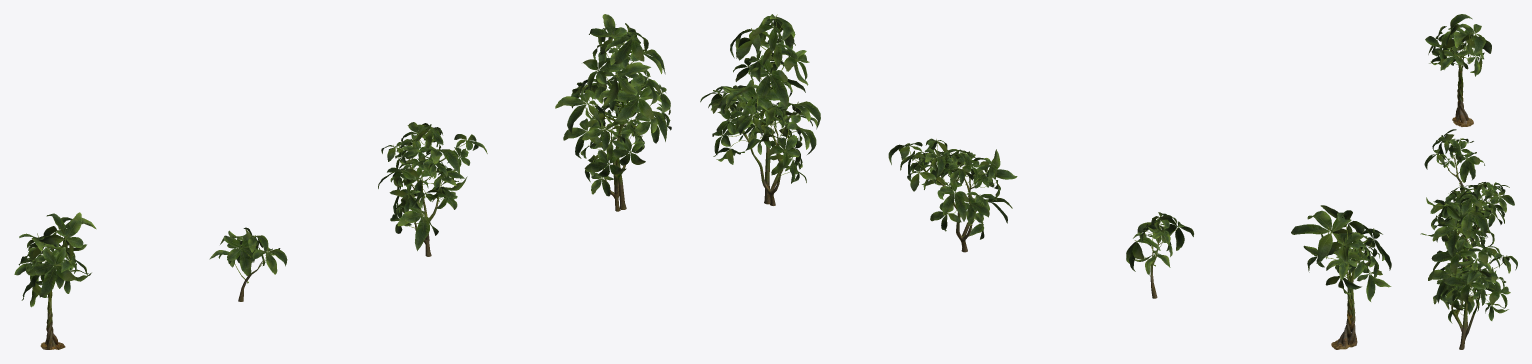
File: pachira_aquatica_01.glb
3 views of the same model, side by side, from view 1: azimuth 30°, elevation 25°; view 2: azimuth 150°, elevation 25°; view 3: azimuth 270°, elevation 25° (orthographic). The views are drawn at different scales.
Parts seen in each view (by area): view 1: pachira_aquatica_01_bark_a; view 2: pachira_aquatica_01_bark_a; view 3: pachira_aquatica_01_bark_a.
Part boxes in pixels (x1,y1,x2,y2): pachira_aquatica_01_bark_a: (14, 14, 671, 349); pachira_aquatica_01_bark_a: (700, 14, 1391, 349); pachira_aquatica_01_bark_a: (1420, 14, 1517, 349).
Bounding box in the file's own units: 6.93 × 1.94 × 1.1.
2 materials, 2 textured.
